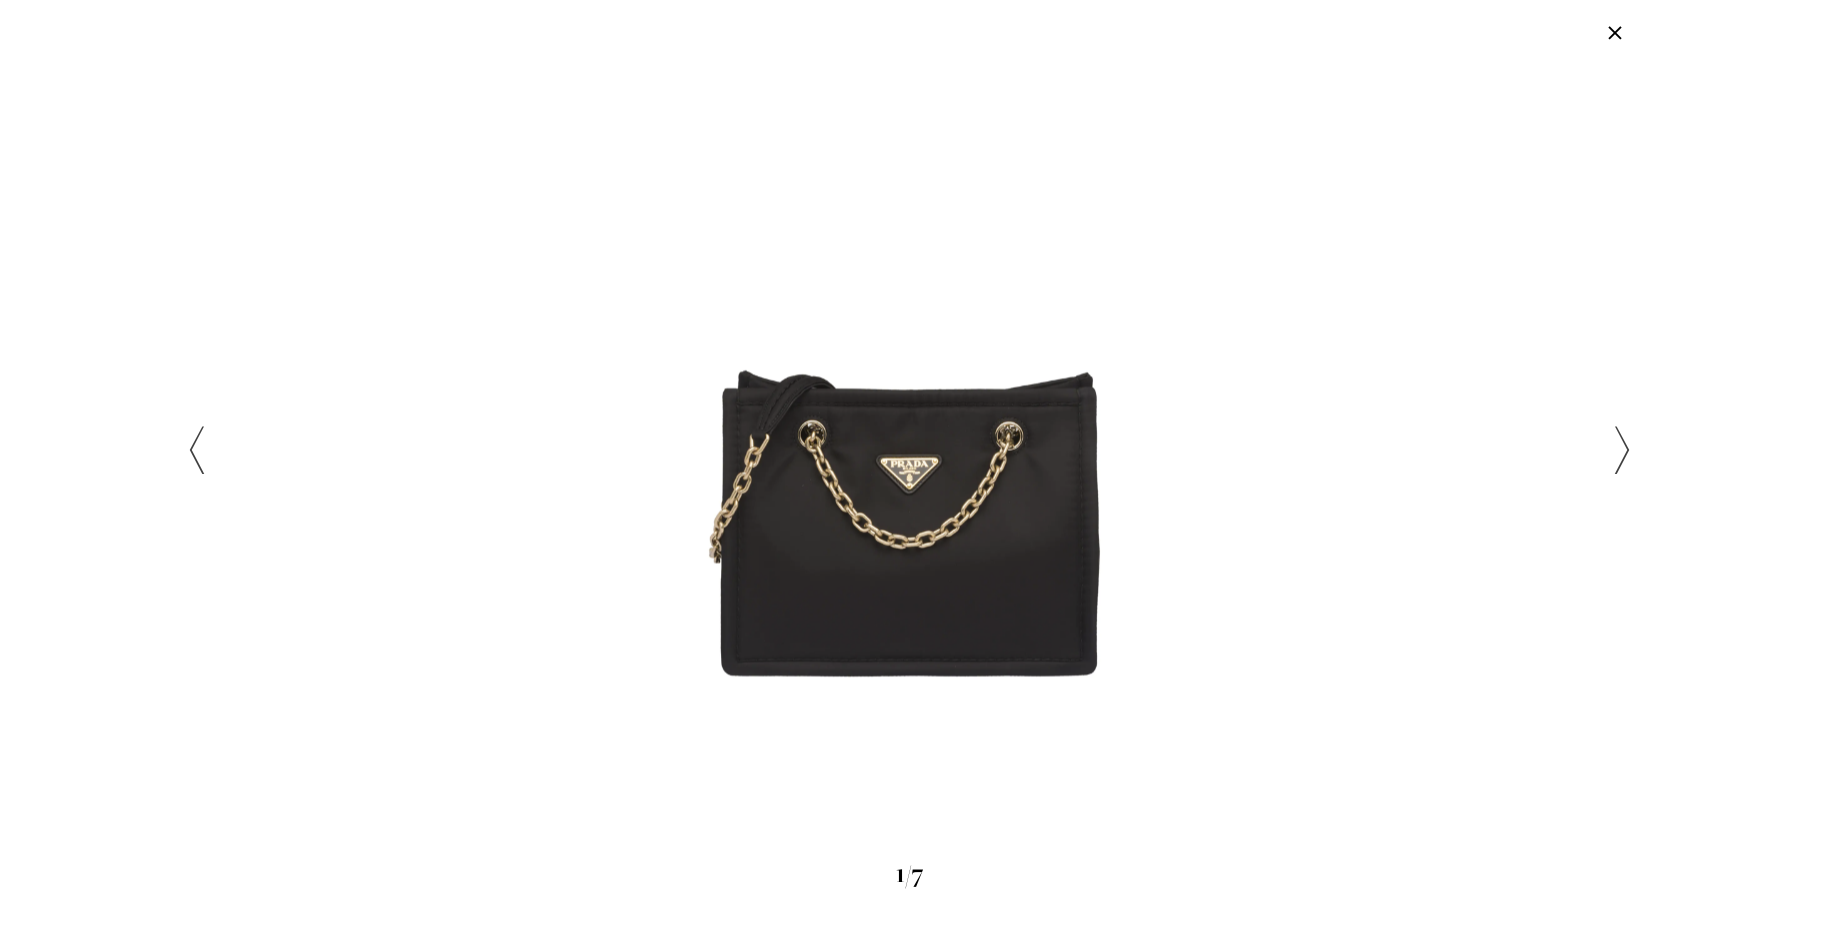Prada: (863, 448, 955, 498)
